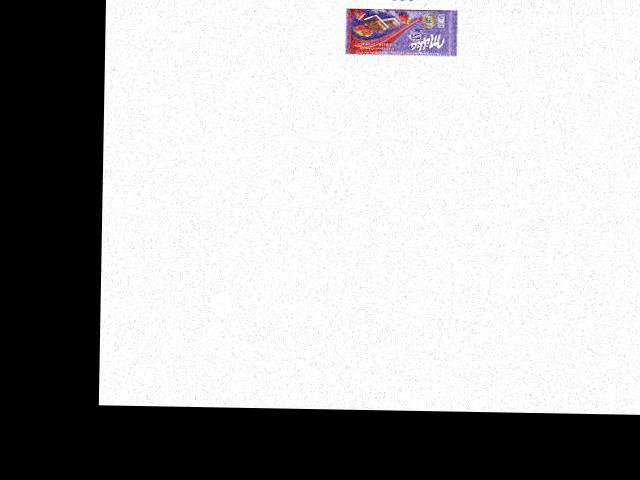chocolate: (344, 2, 457, 56)
